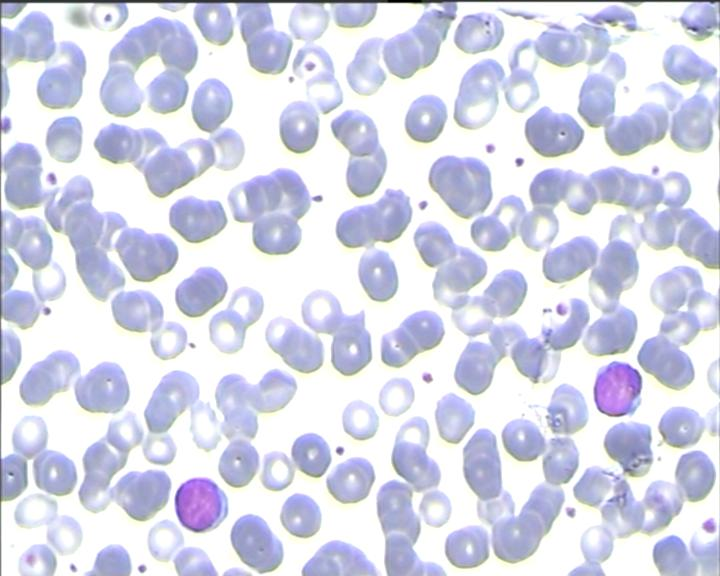lymp: (584, 356, 649, 421), (174, 475, 231, 535)
